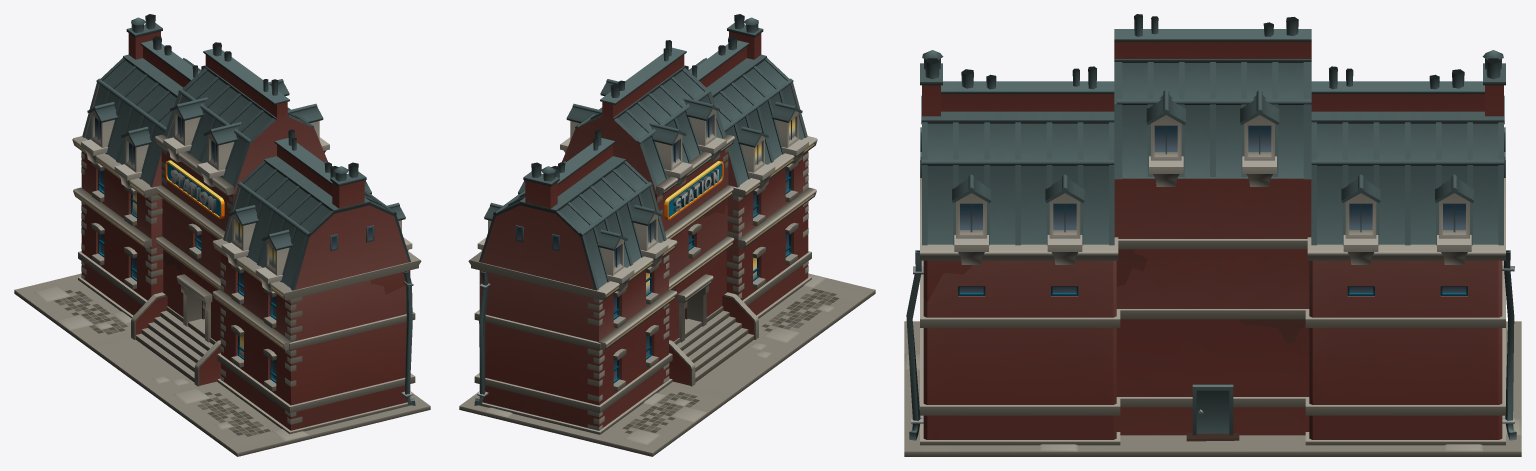
File: Train_Station_2A.fbx
The picture shows the model from 3 angles, left to right: view 1: azimuth 30°, elevation 25°; view 2: azimuth 150°, elevation 25°; view 3: azimuth 270°, elevation 25°; orthographic projection. The views are drawn at different scales.
Visible parts, largest first — view 1: Train_Station_2A; view 2: Train_Station_2A; view 3: Train_Station_2A.
Boxes of the visible parts, x1,y1,x2,y2 form: Train_Station_2A: (14, 14, 430, 456); Train_Station_2A: (459, 14, 875, 456); Train_Station_2A: (904, 14, 1521, 456).
Bounding box in the file's own units: 16 × 22.5 × 32.
